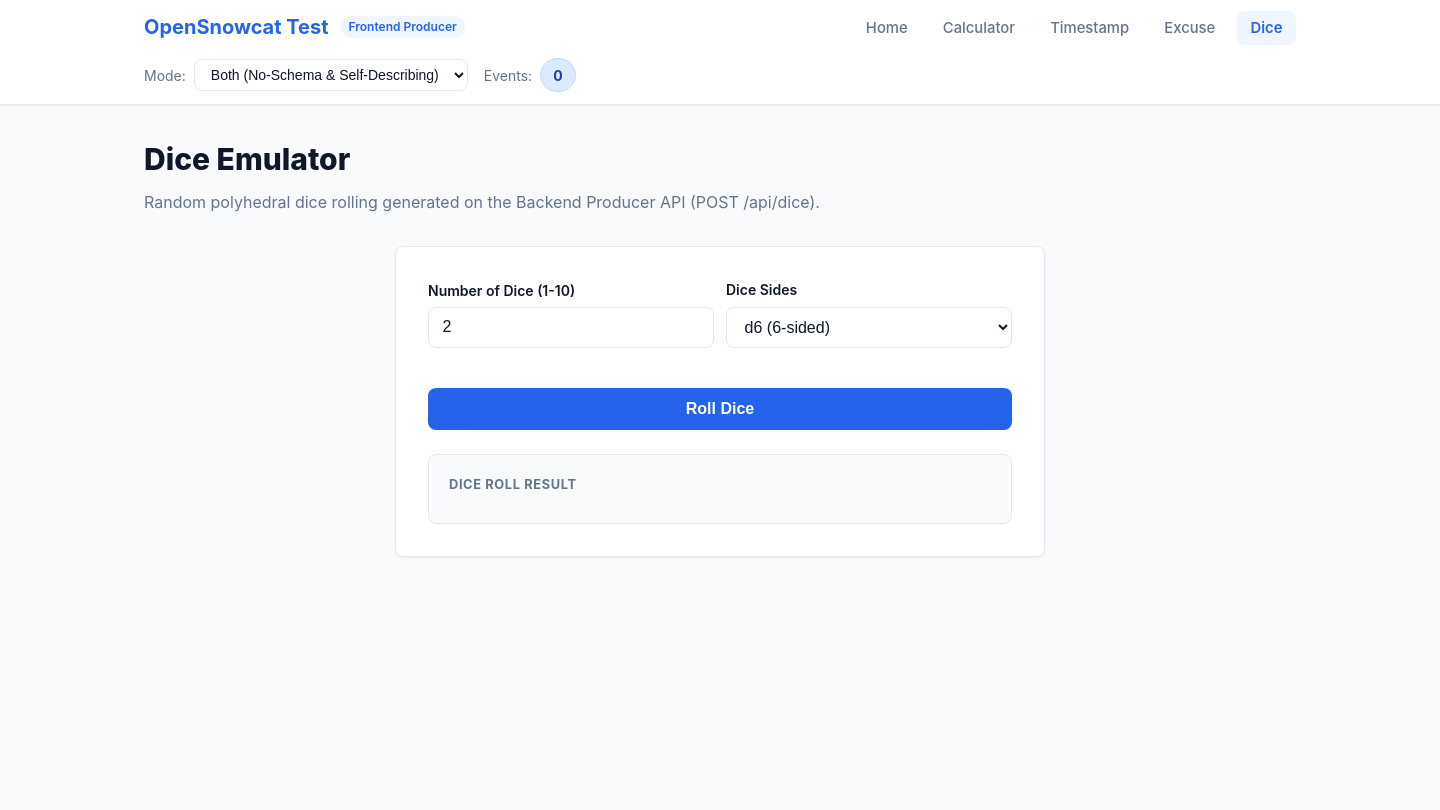
Test case: Dice Emulator Service - End-to-End Integration › rolls default dice (2 dice, d6) without changing form inputs
Click the button with test id "btn-roll-dice": (720, 409) [428,388,1012,430]
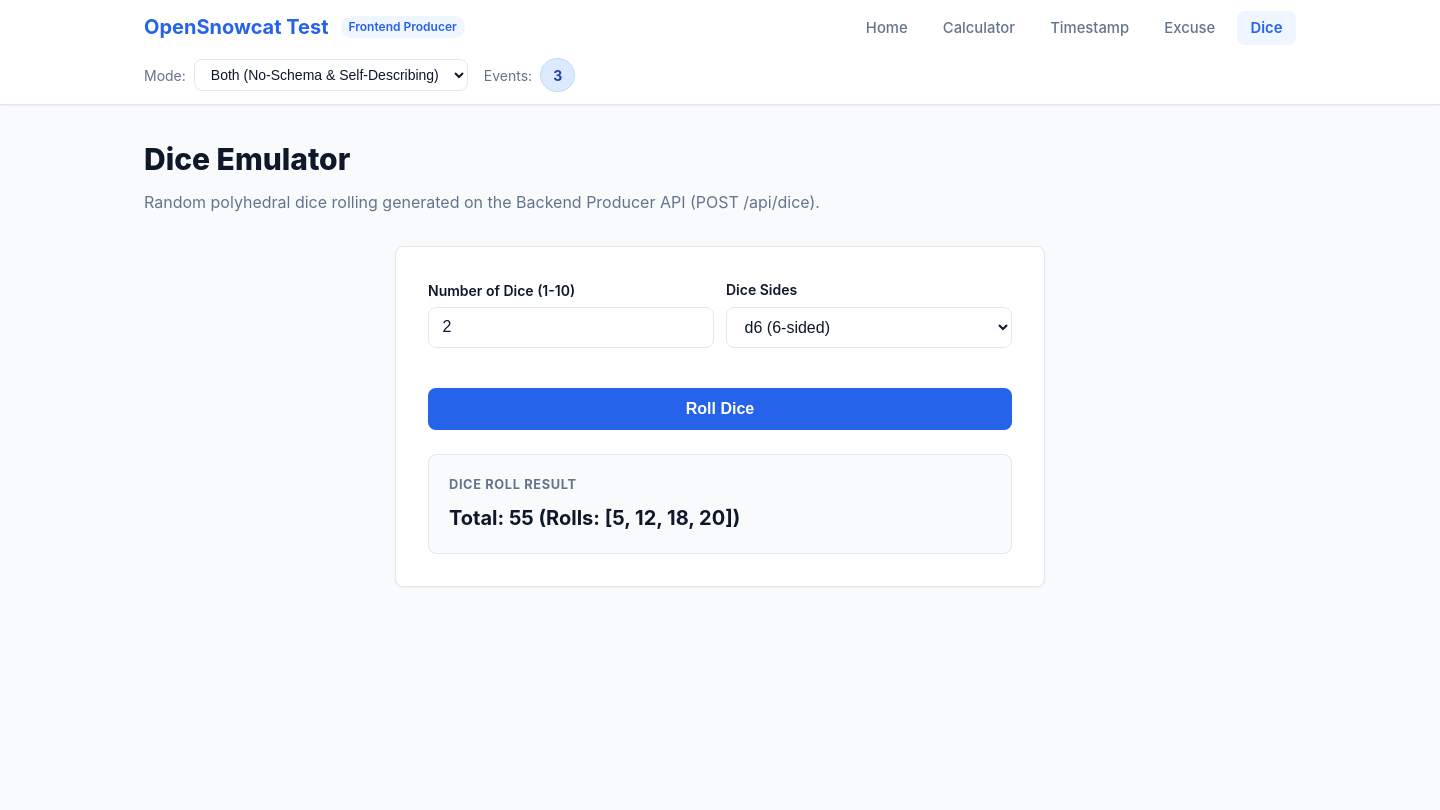
Result: the text "Total: 55 (Rolls: [5, 12, 18, 20])" is not empty at [449,506,740,530]
